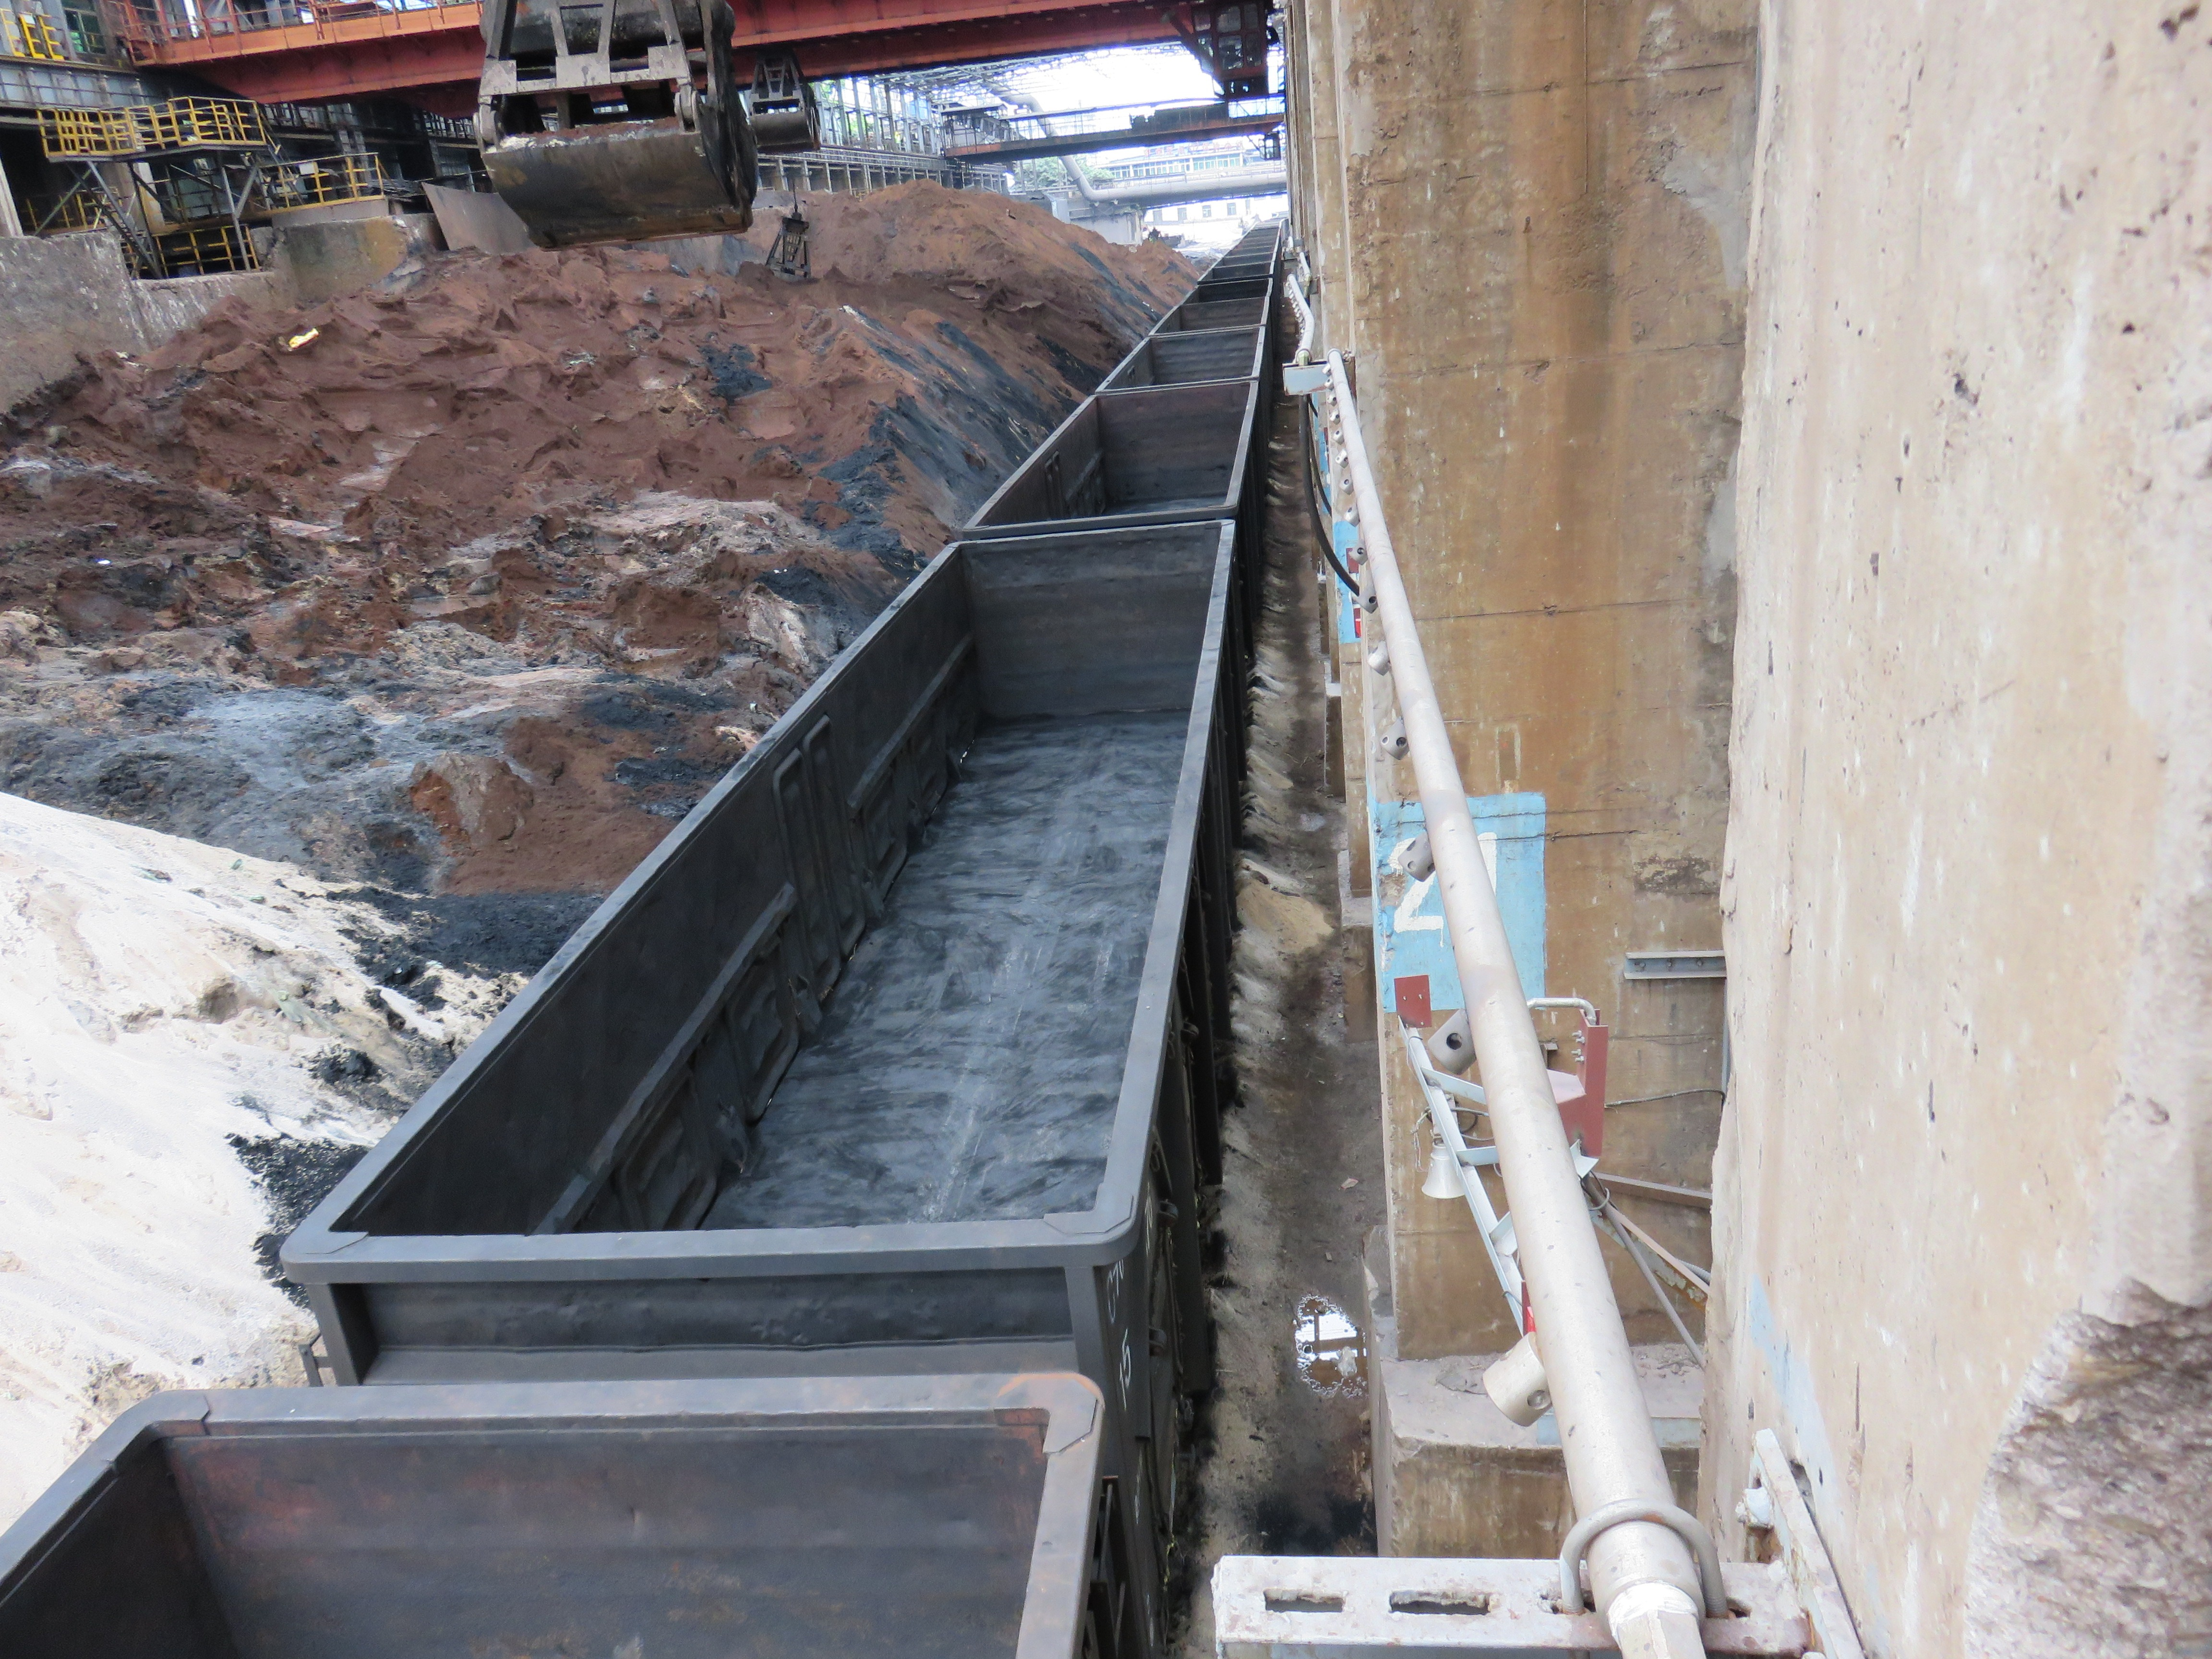grab: (474, 0, 758, 268)
